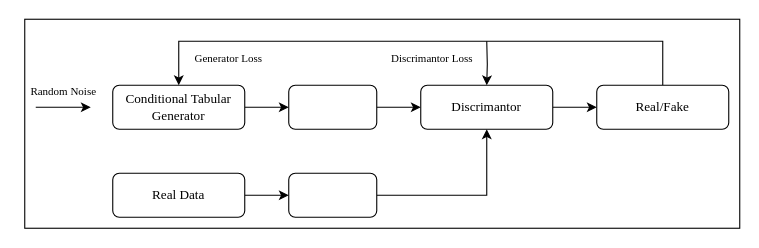
Image size: 759x248. Some labels were removed from this diagram. Here are the shapes that lost their labels. From the top down, the centre of each, then its label:
the point at 332,106: Fake Sample
the point at 332,194: Real Sample
